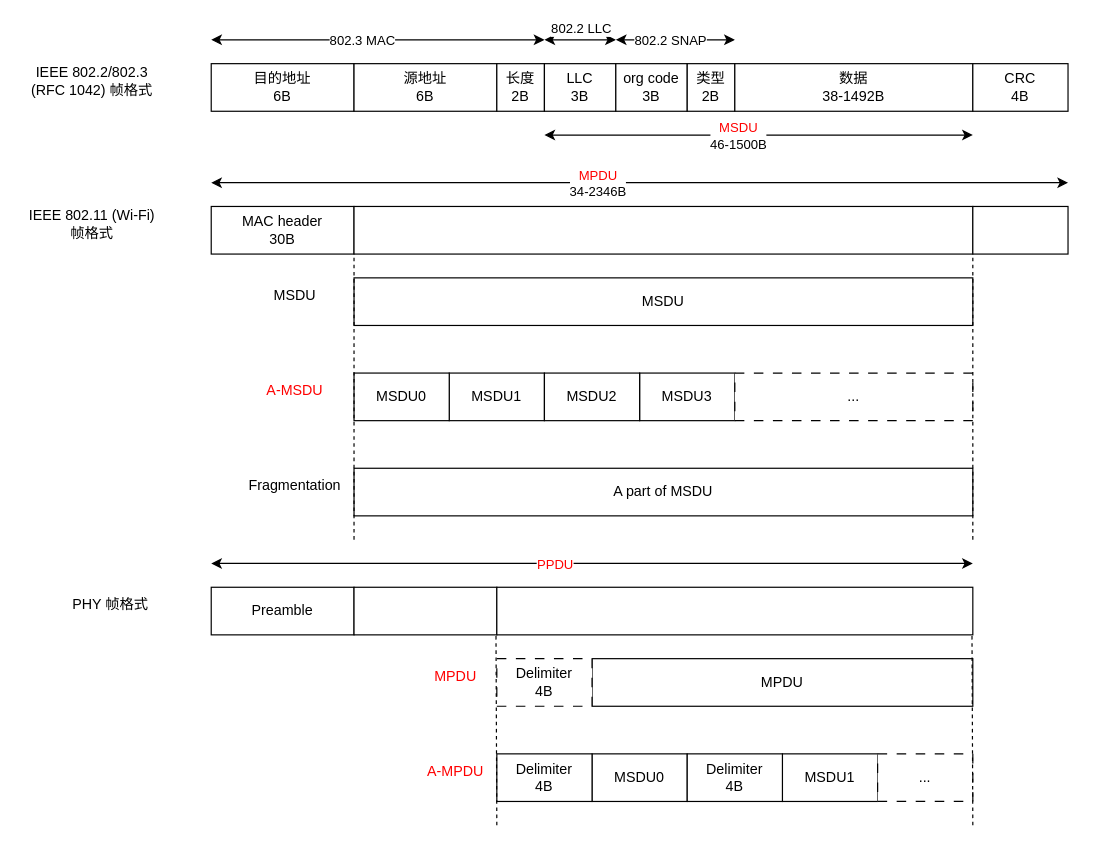
The diagram is 1100 pixels wide and 847 high, and some of its shapes have lost their labels. Here are the shapes that lost their labels. From the top down, the centre of each, then its label:
At point 663,229: "Frame Body 0-2312B".
At point 1020,229: "FCS 4B".
At point 425,610: "PHY Header".
At point 734,610: "PSDU".
